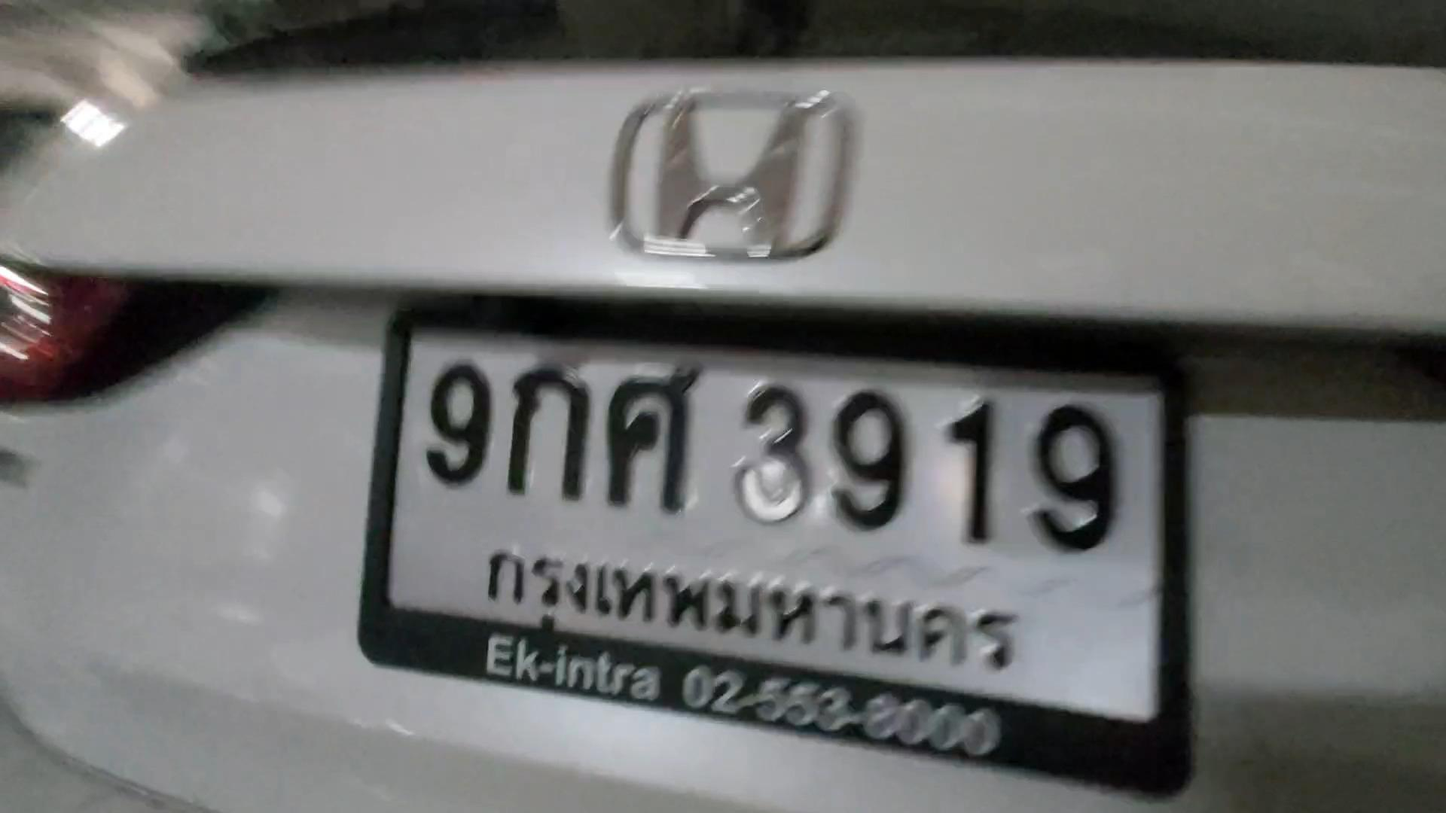license-plate: (385, 321, 1164, 720)
